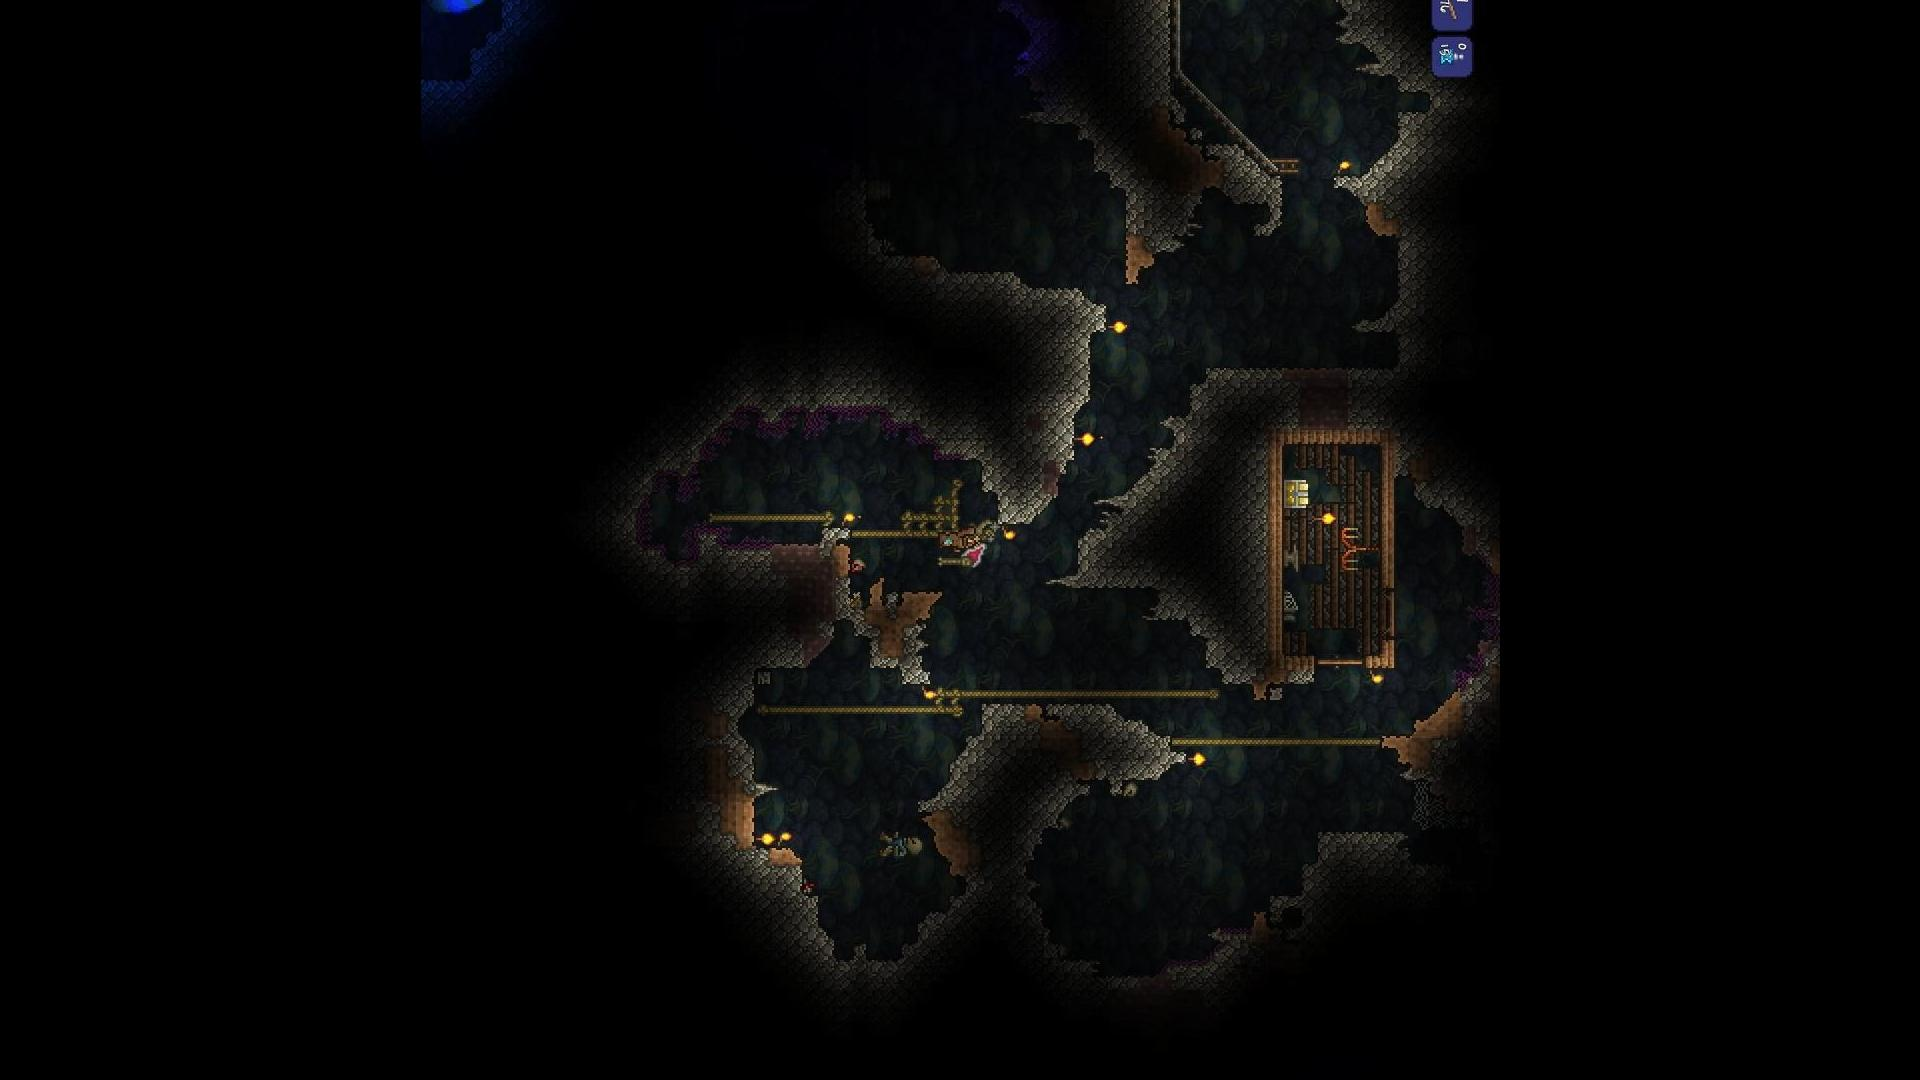anvil: (1284, 542, 1305, 571)
chest: (1280, 477, 1311, 513)
platform: (1443, 0, 1460, 21)
recallP: (1439, 46, 1465, 66)
torchT: (1071, 429, 1096, 459), (1100, 318, 1135, 336), (753, 827, 778, 852), (1332, 152, 1353, 178), (1183, 750, 1212, 769), (993, 524, 1017, 545), (1361, 667, 1386, 687), (1311, 512, 1344, 526), (919, 684, 938, 705)
zombie: (880, 832, 924, 861)
